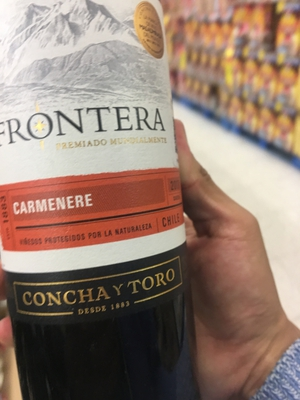frontera carmenere: (2, 1, 210, 400)
